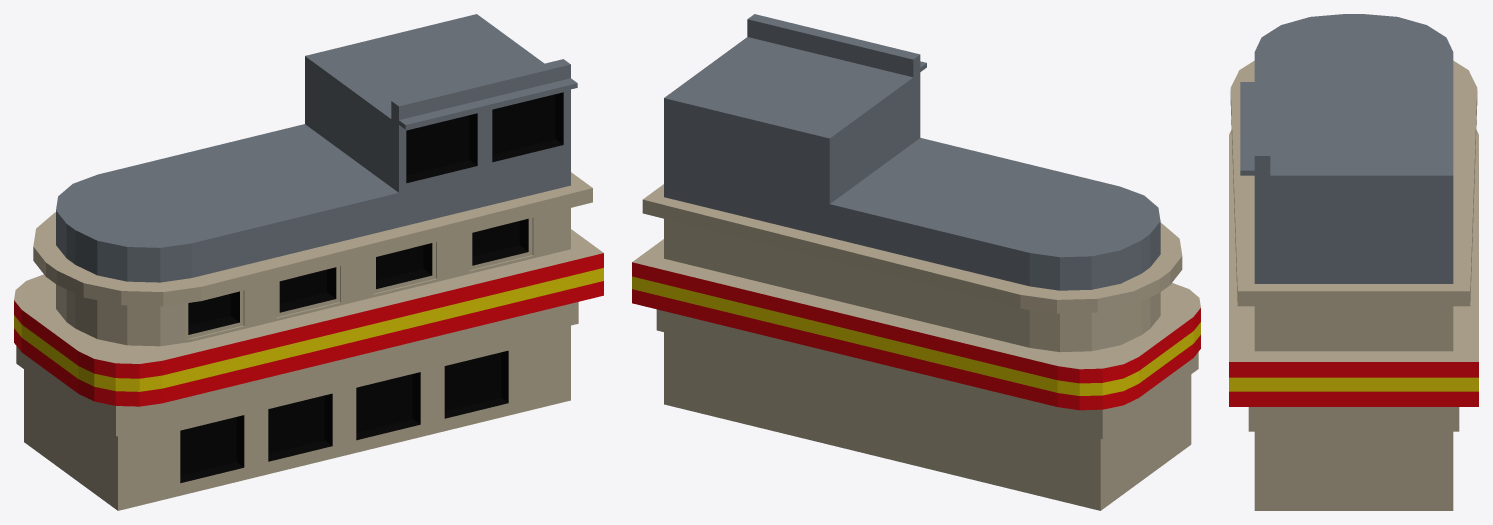
Rendered from padaria_2.fbx.
3 renders of one model, left to right at view 1: azimuth 30°, elevation 25°; view 2: azimuth 150°, elevation 25°; view 3: azimuth 270°, elevation 25°, orthographic. The views are drawn at different scales.
Parts seen in each view (by area): view 1: Cube.001; view 2: Cube.001; view 3: Cube.001.
Boxes of the visible parts, box(x1,y1,x2,y2) form: Cube.001: box(14, 14, 603, 510); Cube.001: box(632, 14, 1200, 510); Cube.001: box(1229, 14, 1478, 510).
Size of the model in its own units: 3896 by 2528 by 1613.
